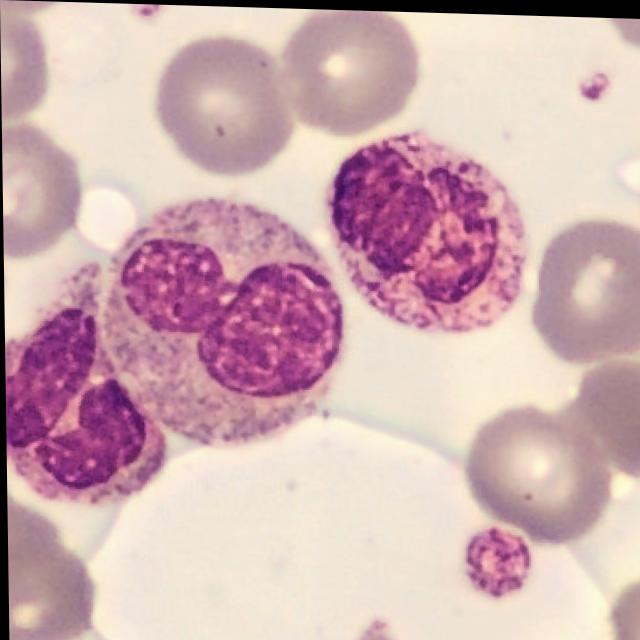Neutrofilo segmentado: (97, 197, 345, 454)
